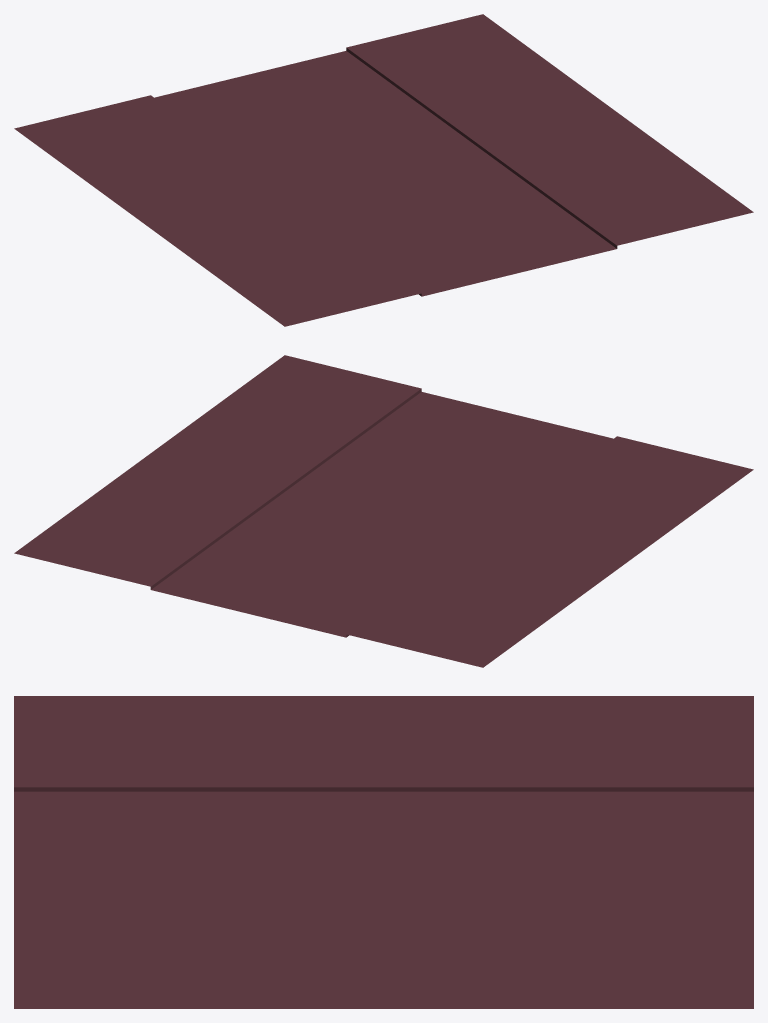
File: tile-mainroad-straight-nb.fbx
The picture shows the model from 3 angles, top to bottom: view 1: azimuth 30°, elevation 25°; view 2: azimuth 150°, elevation 25°; view 3: azimuth 270°, elevation 25°; orthographic projection. The views are drawn at different scales.
Parts seen in each view (by area): view 1: tile-mainroad-straight-nb; view 2: tile-mainroad-straight-nb; view 3: tile-mainroad-straight-nb.
Part boxes in pixels (left/top/right/bottom): tile-mainroad-straight-nb: left=14, top=14, right=753, bottom=326; tile-mainroad-straight-nb: left=14, top=355, right=753, bottom=667; tile-mainroad-straight-nb: left=14, top=696, right=753, bottom=1008.
Size of the model in its own units: 30 by 0.2 by 30.
